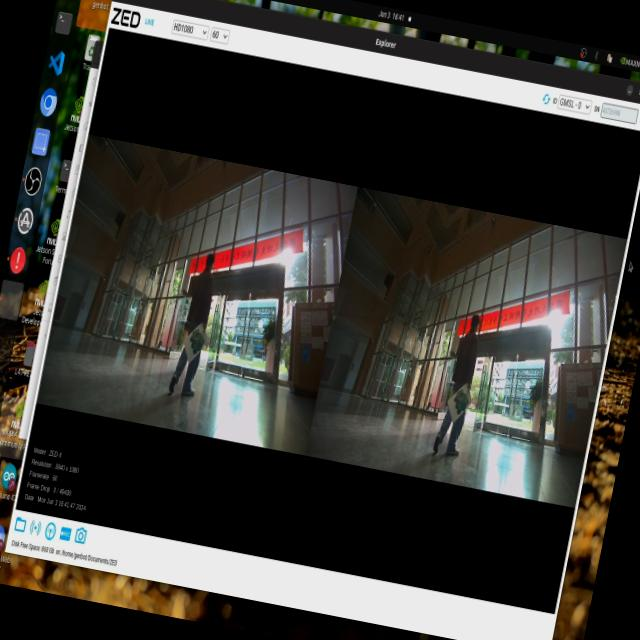green: (172, 314, 210, 366), (453, 388, 476, 420)
